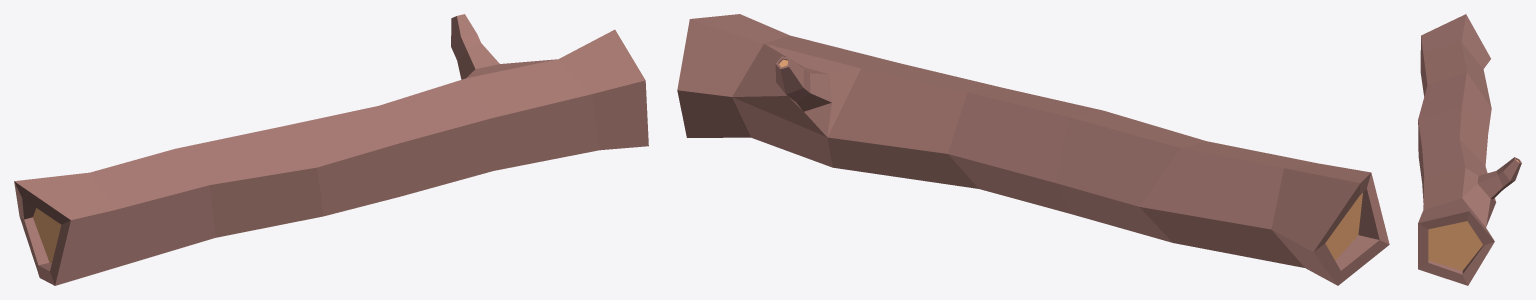
3 renders of one model, left to right at view 1: azimuth 30°, elevation 25°; view 2: azimuth 150°, elevation 25°; view 3: azimuth 270°, elevation 25°, orthographic. The views are drawn at different scales.
Visible parts, largest first — view 1: Log; view 2: Log; view 3: Log.
Part boxes in pixels (x1,y1,x2,y2): Log: [14, 14, 648, 285]; Log: [677, 14, 1389, 285]; Log: [1418, 14, 1521, 285].
Size of the model in its own units: 1312 by 265 by 288.
Materials: 1 (1 with a texture image).
